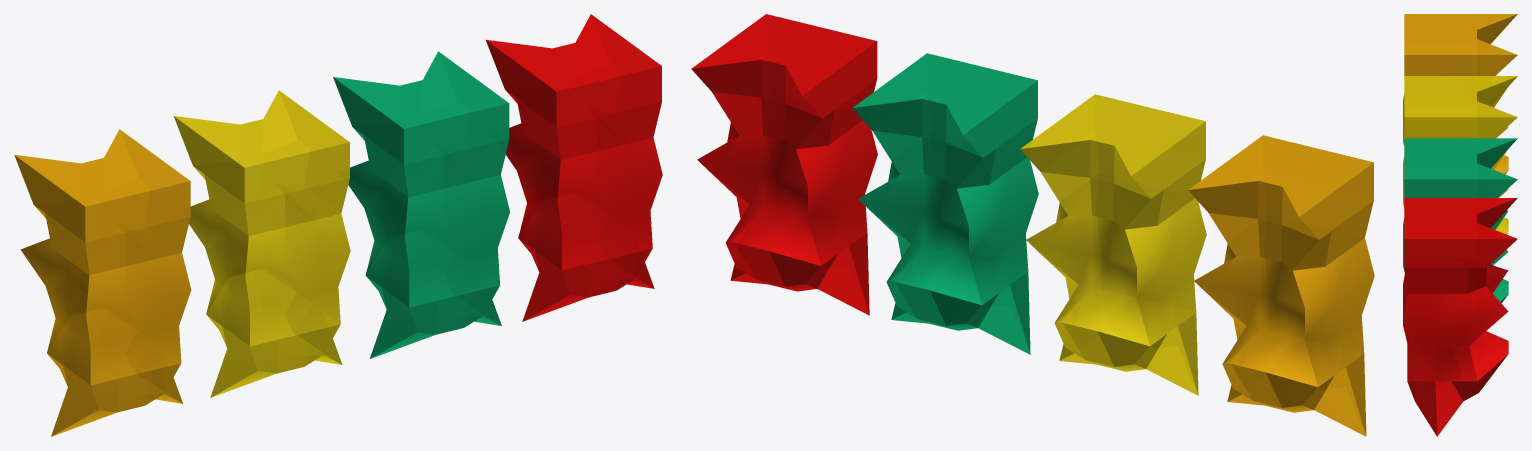
The model's file is gummibär.fbx.
3 views of the same model, side by side, from view 1: azimuth 30°, elevation 25°; view 2: azimuth 150°, elevation 25°; view 3: azimuth 270°, elevation 25° (orthographic). The views are drawn at different scales.
Visible parts, largest first — view 1: pCube18, pCube14, pCube17, pCube19; view 2: pCube18, pCube14, pCube17, pCube19; view 3: pCube19, pCube17, pCube18, pCube14.
Part boxes in pixels (x1,y1,x2,y2): pCube18: (14, 129, 191, 436); pCube14: (333, 51, 509, 358); pCube17: (173, 90, 350, 397); pCube19: (486, 14, 662, 321); pCube18: (1188, 135, 1374, 436); pCube14: (852, 53, 1038, 354); pCube17: (1020, 94, 1206, 395); pCube19: (691, 14, 877, 315); pCube19: (1403, 198, 1517, 436); pCube17: (1403, 76, 1517, 234); pCube18: (1403, 14, 1517, 174); pCube14: (1403, 138, 1517, 303).
Bounding box in the file's own units: 34.12 × 13.07 × 7.04.
